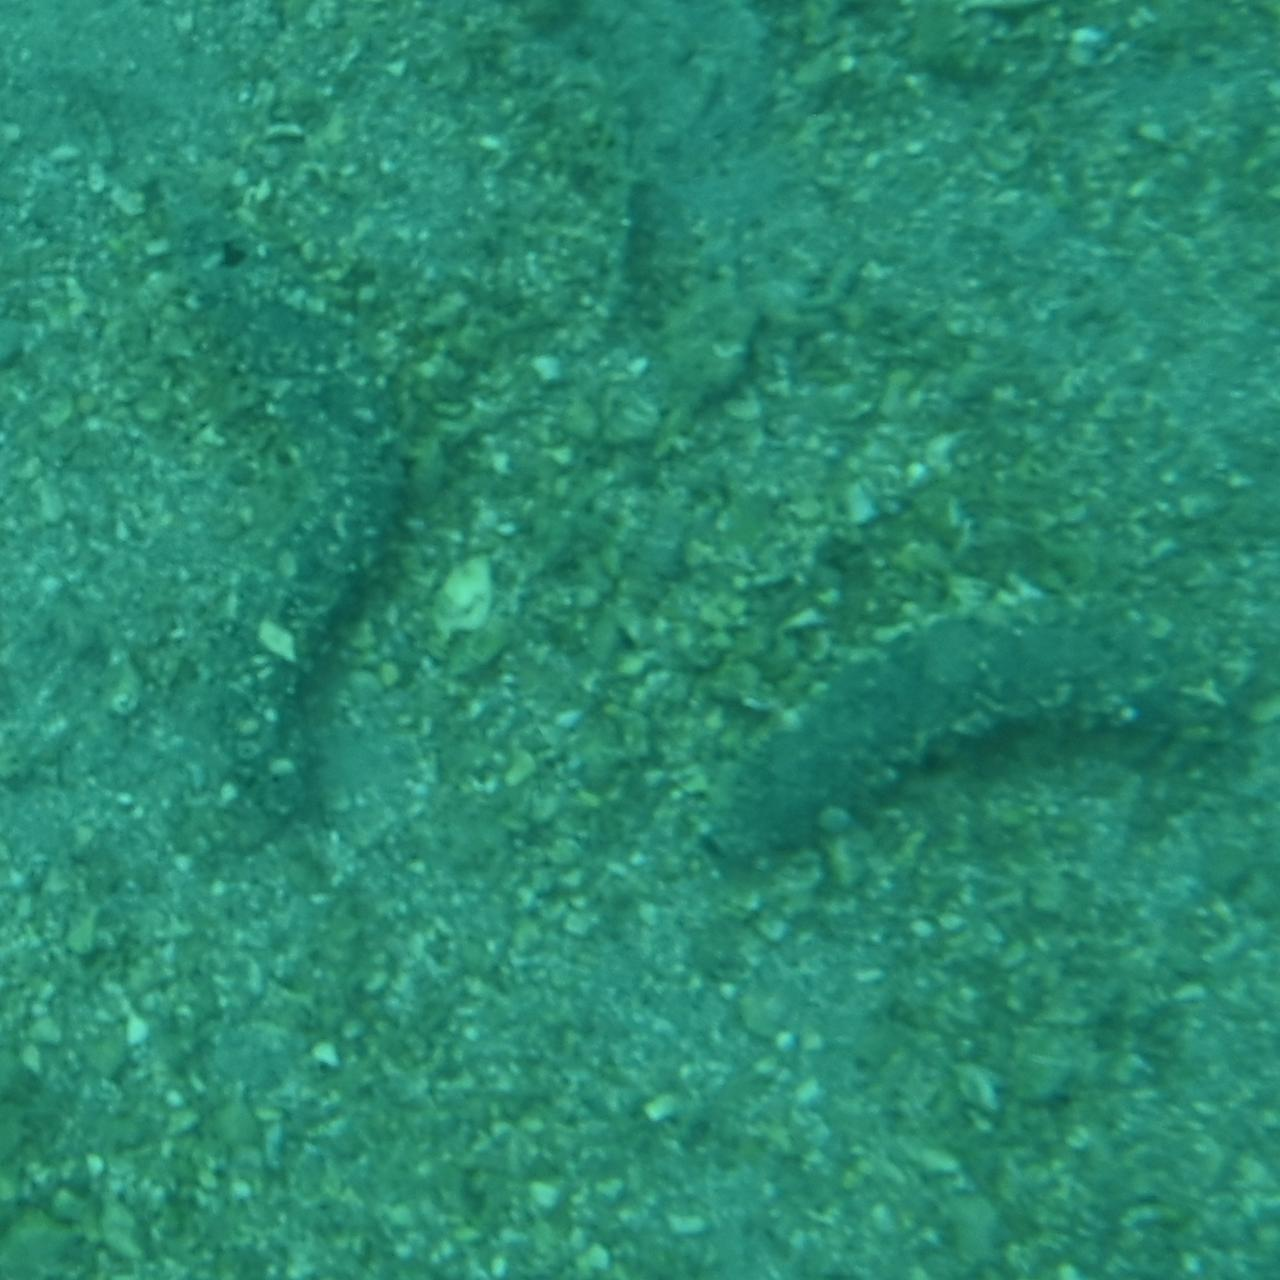Holothuria tubulosa: (695, 588, 1257, 881), (225, 243, 384, 849)
